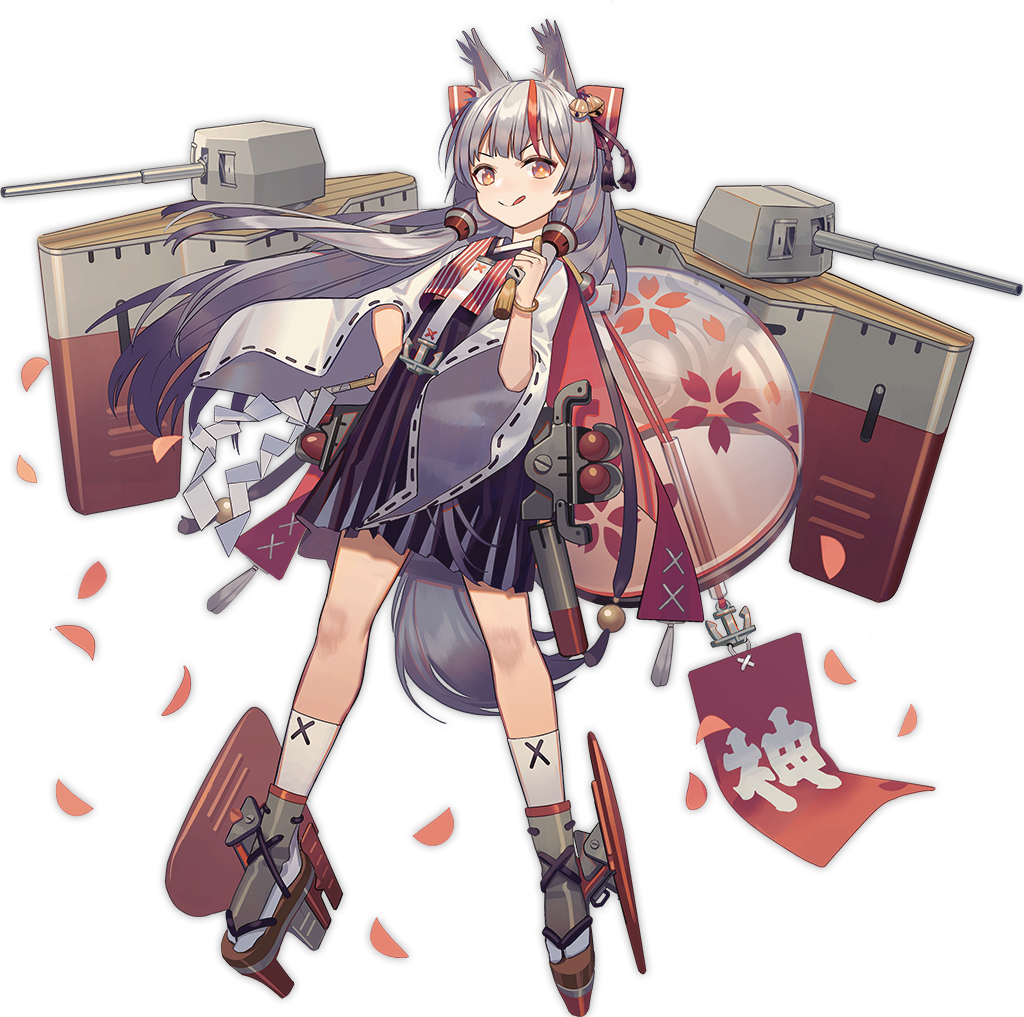person: (224, 79, 706, 766)
